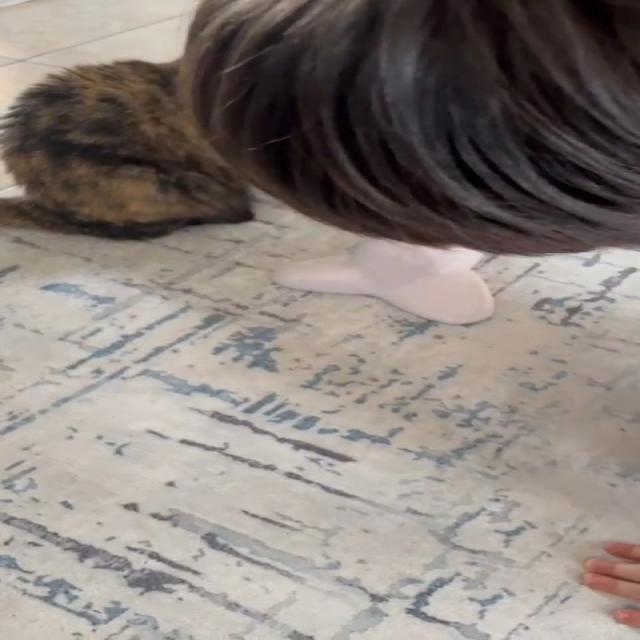authorized: (0, 0, 639, 325)
